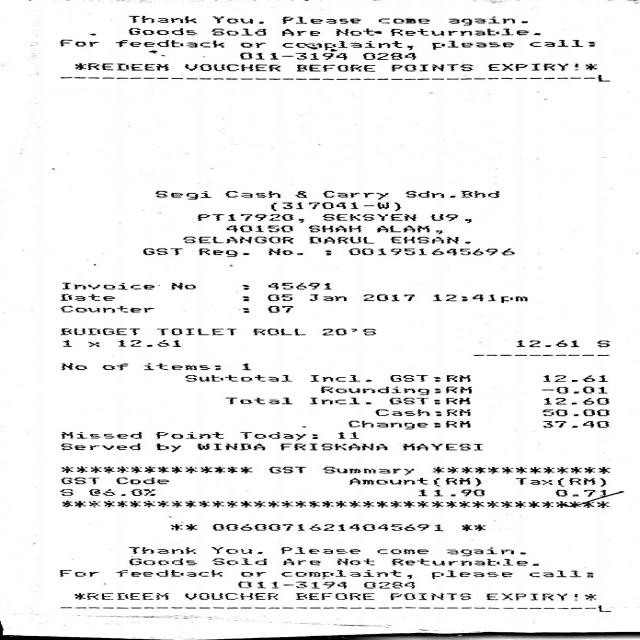text: (279, 40, 412, 51), (210, 524, 442, 530), (280, 569, 410, 578), (347, 248, 512, 255), (319, 386, 439, 395), (389, 28, 538, 35), (270, 202, 399, 210), (390, 558, 537, 565), (196, 213, 302, 222), (114, 39, 223, 47), (238, 52, 345, 60), (486, 63, 598, 70), (180, 236, 292, 243), (485, 593, 595, 600), (236, 581, 345, 588), (59, 282, 154, 290), (431, 294, 526, 302), (183, 374, 290, 381), (183, 592, 276, 600), (431, 40, 512, 49), (322, 466, 412, 474), (448, 16, 526, 25), (347, 420, 424, 429), (429, 570, 512, 578), (503, 476, 563, 487), (72, 63, 166, 70), (387, 374, 469, 382), (322, 213, 415, 220), (59, 305, 152, 312), (113, 570, 221, 576), (401, 442, 481, 450), (280, 443, 386, 449), (445, 547, 524, 555), (280, 546, 358, 554), (294, 592, 372, 600), (143, 362, 219, 370), (321, 190, 387, 199), (182, 64, 279, 70), (387, 397, 469, 404), (72, 593, 167, 599), (280, 16, 360, 23), (388, 236, 468, 243), (60, 431, 140, 438), (346, 477, 424, 484), (195, 442, 263, 450), (239, 432, 316, 439), (541, 408, 608, 416), (296, 64, 372, 71), (376, 225, 441, 233), (153, 190, 210, 199), (543, 374, 606, 382), (389, 64, 472, 70), (126, 558, 196, 565), (59, 328, 139, 334), (156, 328, 236, 334), (59, 443, 139, 449), (388, 593, 468, 599), (154, 431, 222, 438), (128, 15, 195, 22), (307, 236, 373, 243), (540, 386, 606, 393), (542, 397, 608, 404), (542, 420, 608, 427), (416, 489, 482, 496), (554, 489, 610, 497), (268, 282, 330, 289), (117, 339, 179, 346), (529, 570, 591, 577), (306, 224, 360, 232), (515, 339, 576, 346), (126, 28, 196, 34), (126, 547, 193, 553), (528, 40, 594, 46), (224, 225, 290, 231), (224, 397, 290, 403), (86, 489, 152, 495), (222, 190, 278, 197), (373, 409, 438, 415), (210, 28, 265, 35), (198, 248, 246, 256), (361, 52, 415, 59), (433, 478, 480, 486), (308, 375, 370, 381), (308, 397, 370, 403), (251, 328, 304, 335), (361, 294, 413, 301), (322, 328, 374, 335), (115, 477, 167, 484), (211, 16, 262, 23), (363, 581, 413, 588), (405, 190, 454, 197), (210, 558, 265, 564), (59, 294, 113, 300), (429, 214, 469, 222), (334, 28, 379, 35), (210, 547, 261, 553), (572, 477, 604, 486), (57, 39, 97, 46), (281, 558, 319, 565), (376, 18, 429, 23), (280, 28, 317, 35), (336, 558, 372, 565), (461, 190, 496, 197), (141, 248, 181, 254), (57, 570, 97, 576), (169, 281, 195, 290), (266, 466, 303, 472), (60, 477, 97, 483), (309, 294, 345, 300), (62, 340, 98, 346), (60, 362, 86, 370), (154, 443, 180, 451), (268, 248, 302, 254), (376, 549, 427, 553), (446, 408, 469, 416), (100, 363, 126, 370), (266, 305, 290, 312), (446, 420, 469, 427), (337, 431, 358, 438), (266, 294, 290, 300), (450, 386, 470, 393), (237, 42, 263, 47), (239, 571, 264, 576), (596, 340, 609, 347), (57, 489, 72, 495), (292, 190, 304, 197), (240, 363, 248, 370), (242, 284, 247, 289), (242, 307, 247, 312), (324, 250, 330, 254), (242, 296, 247, 300), (435, 422, 438, 427)
